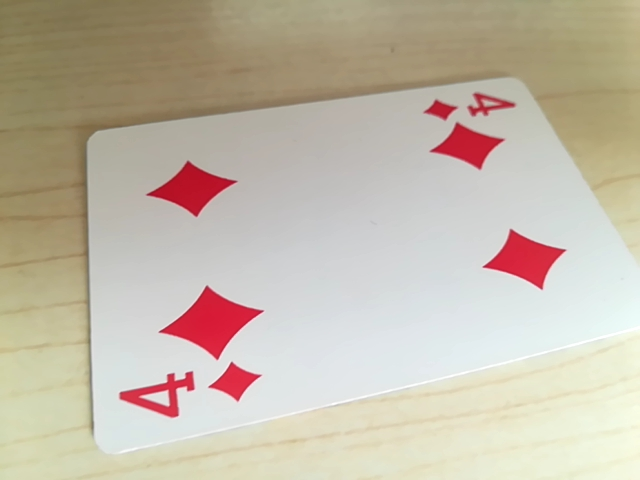fk 4: (110, 358, 263, 430), (421, 87, 520, 127)
